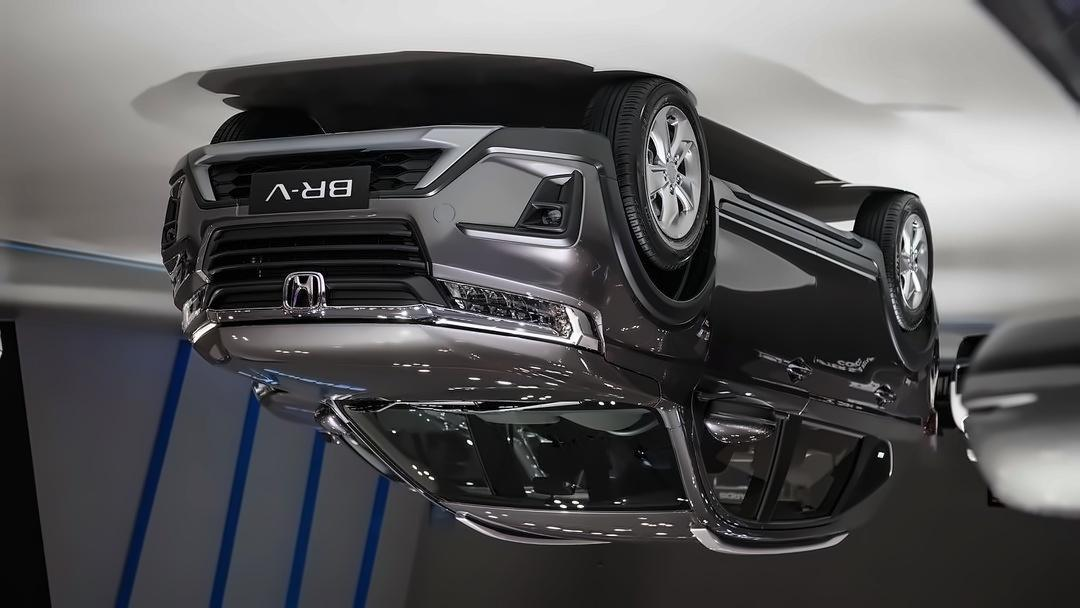Car hood: (187, 320, 664, 413)
Driver-s door - -F-R-: (696, 201, 816, 538)
Fender - -F-R-: (591, 177, 720, 432)
Fender - -R-R-: (900, 319, 937, 424)
Front bumper: (158, 118, 639, 320)
Headlight - -L-: (176, 279, 222, 347)
Headlight - -R-: (429, 273, 604, 356)
Passenger-s door - -R-R-: (787, 232, 905, 538)
Rear light - -R-: (919, 401, 945, 444)
Side bumper - -R-: (707, 171, 890, 281)
Side mirror - -L-: (306, 397, 355, 439)
Side mirror - -R-: (693, 389, 785, 449)
